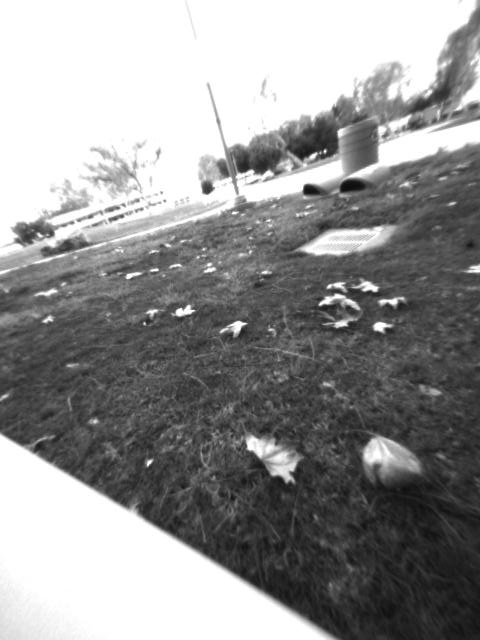trashcan: (333, 113, 380, 175)
